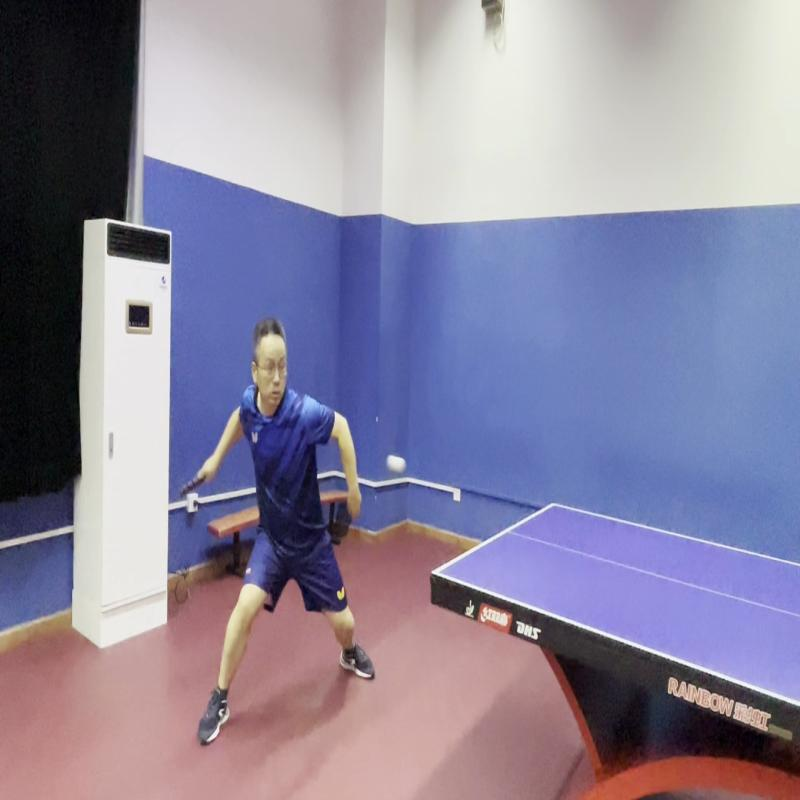bats: (175, 465, 217, 506)
